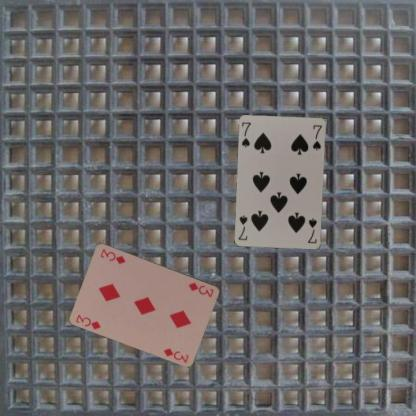3d: (186, 280, 215, 298), (74, 312, 102, 330)
7s: (239, 120, 253, 148), (305, 216, 318, 244)
